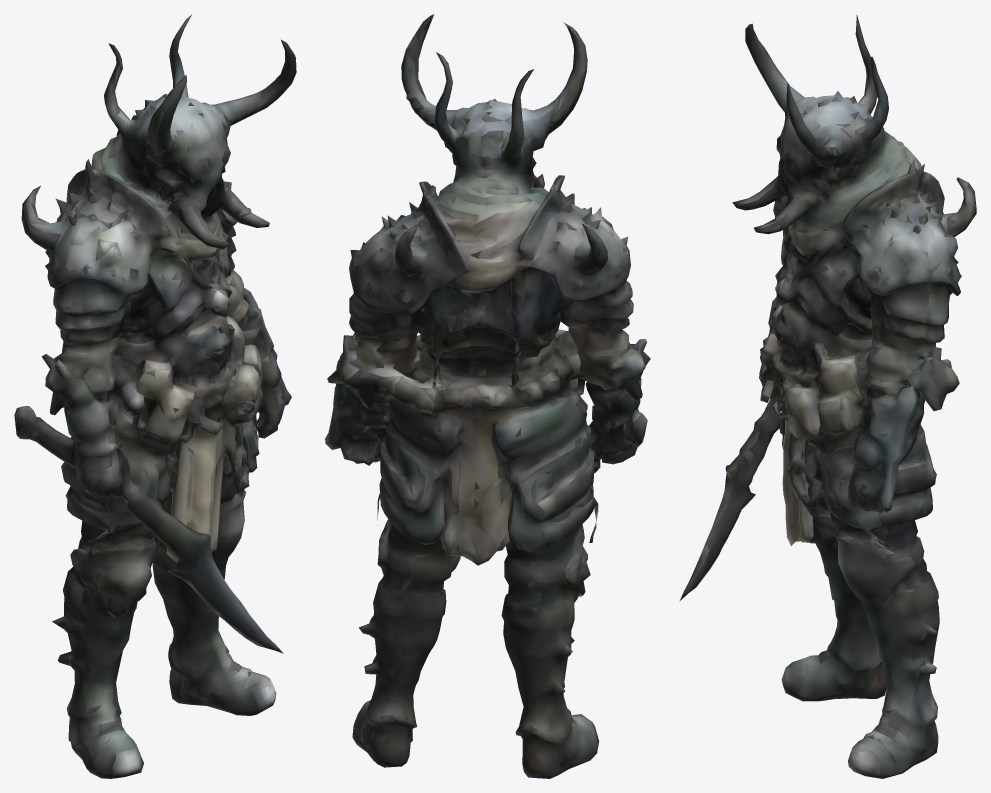
The model's file is Berrexi_final.glb.
3 renders of one model, left to right at view 1: azimuth 30°, elevation 25°; view 2: azimuth 150°, elevation 25°; view 3: azimuth 270°, elevation 25°, orthographic. The views are drawn at different scales.
Parts seen in each view (by area): view 1: Mesh_0; view 2: Mesh_0; view 3: Mesh_0.
Part boxes in pixels (x1=…): Mesh_0: x1=14, y1=14, x2=296, y2=778; Mesh_0: x1=325, y1=14, x2=650, y2=778; Mesh_0: x1=679, y1=15, x2=976, y2=778.
Size of the model in its own units: 0.8901 by 2 by 0.7837.
1 material, 1 textured.
